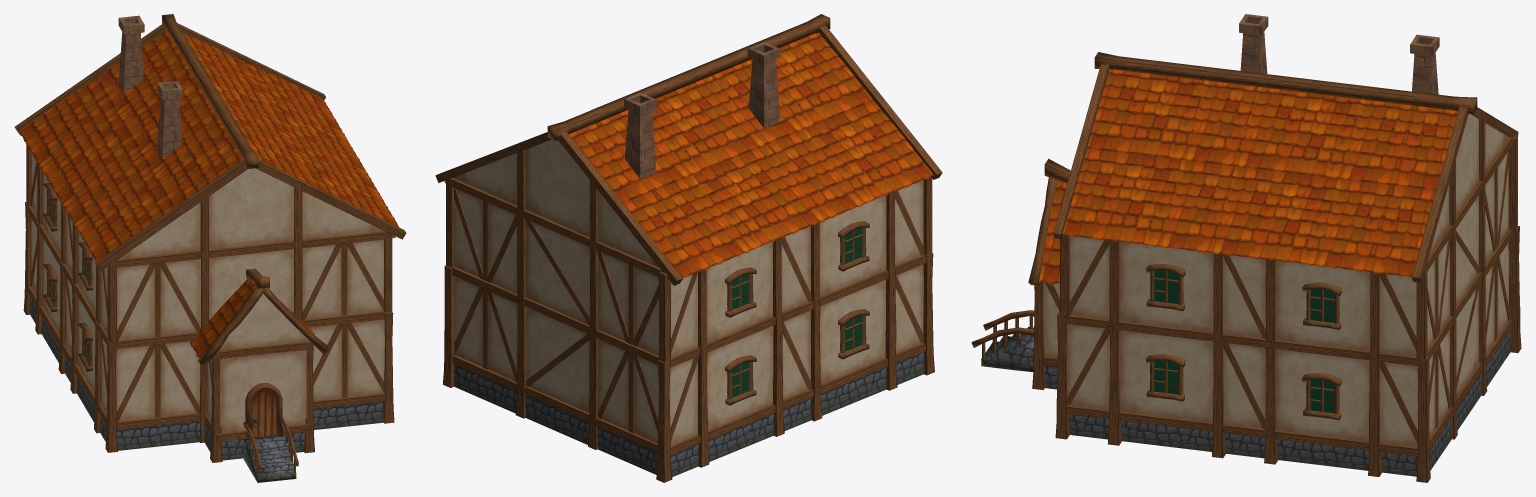
Rendered from SquareHouseD.obj.
The picture shows the model from 3 angles, left to right: view 1: azimuth 30°, elevation 25°; view 2: azimuth 150°, elevation 25°; view 3: azimuth 270°, elevation 25°; orthographic projection. The views are drawn at different scales.
Visible parts, largest first — view 1: RH8; view 2: RH8; view 3: RH8.
Boxes of the visible parts, x1,y1,x2,y2 form: RH8: (14, 14, 406, 482); RH8: (435, 14, 942, 482); RH8: (971, 14, 1521, 482).
Size of the model in its own units: 8.31 by 6.99 by 10.15.
